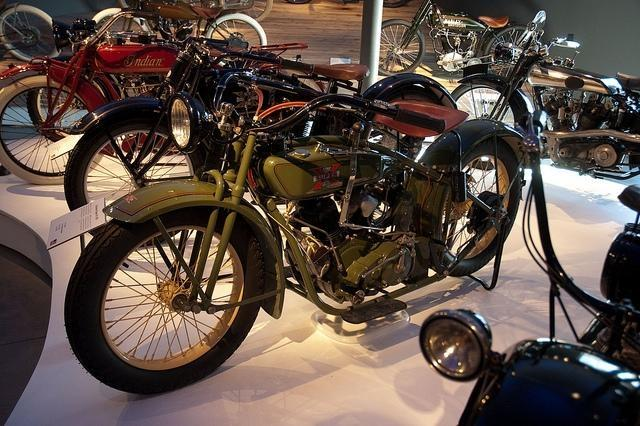motorcycle: (63, 72, 527, 396), (63, 13, 460, 213), (416, 184, 640, 420), (0, 5, 245, 184), (452, 9, 640, 182), (378, 0, 528, 78), (116, 56, 172, 101)
